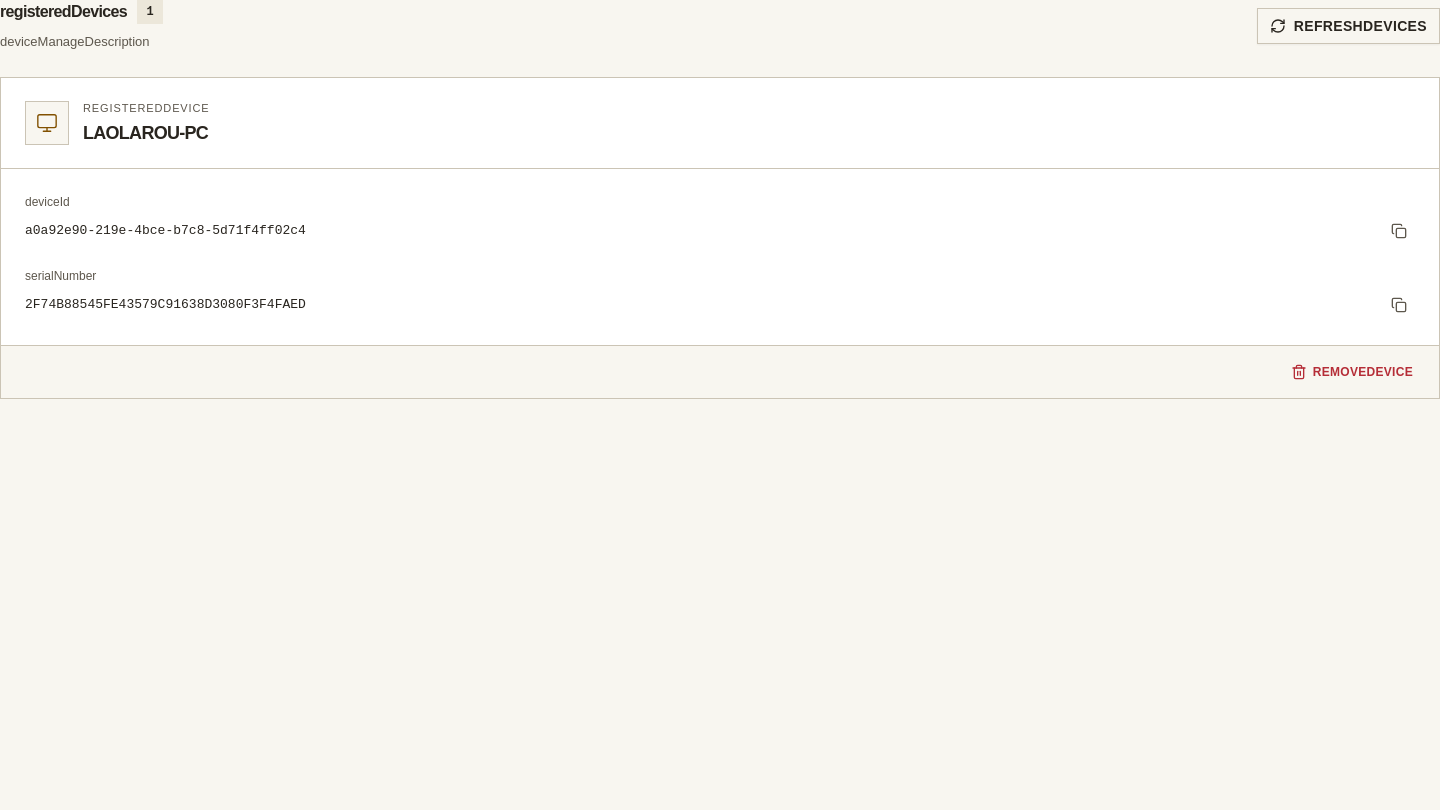
Test case: device management › requires confirmation before removing the selected device and refreshes afterward
The image size is (1440, 810).
Expected: the heading "LAOLAROU-PC" is shown, 83,121 -> 210,146
Click the button "removeDevice" at x=1352, y=372, box 1281,356 -> 1423,388
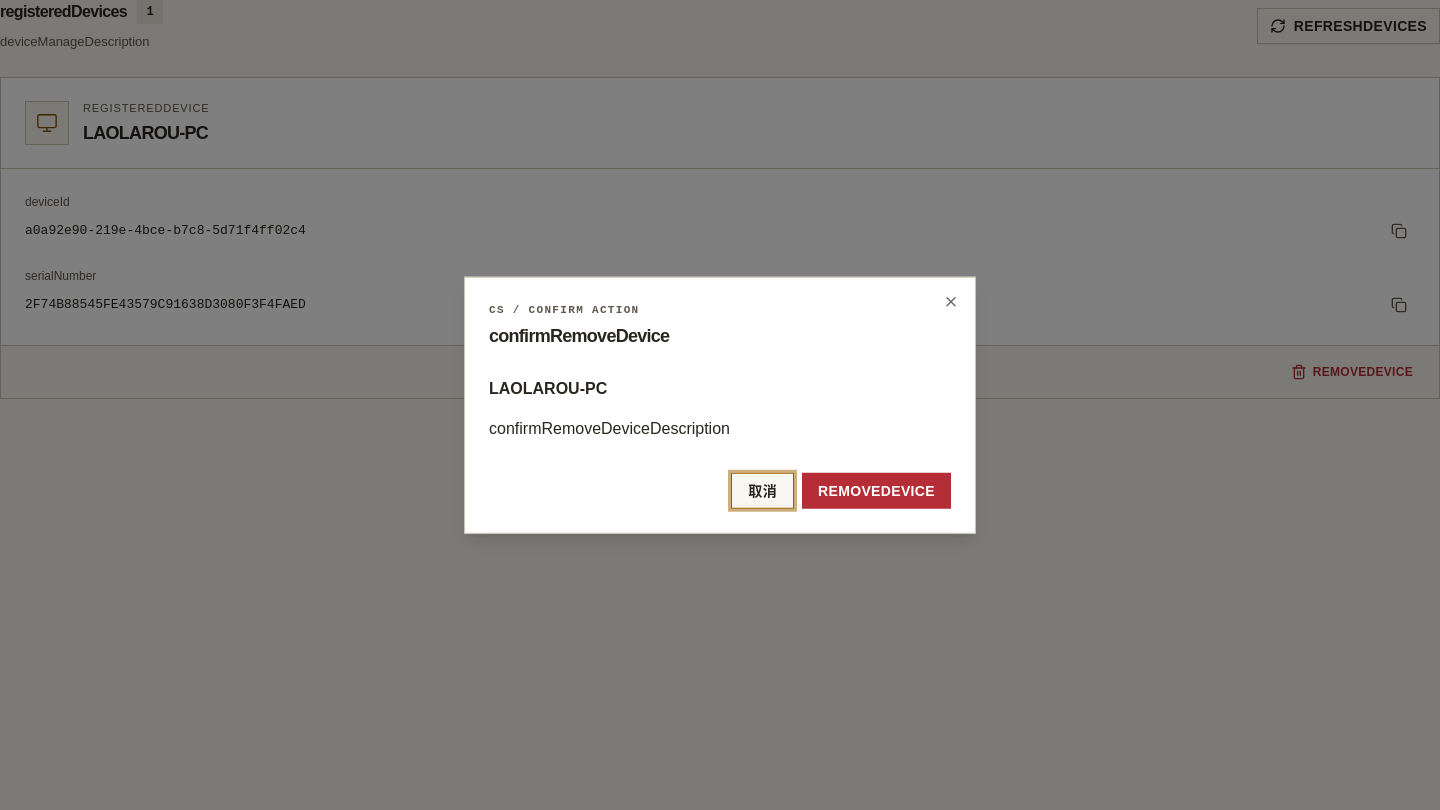
Expected: the text "LAOLAROU-PC" is shown, 489,379 -> 607,396
Click the button "removeDevice" at x=876, y=490, box 802,472 -> 951,508
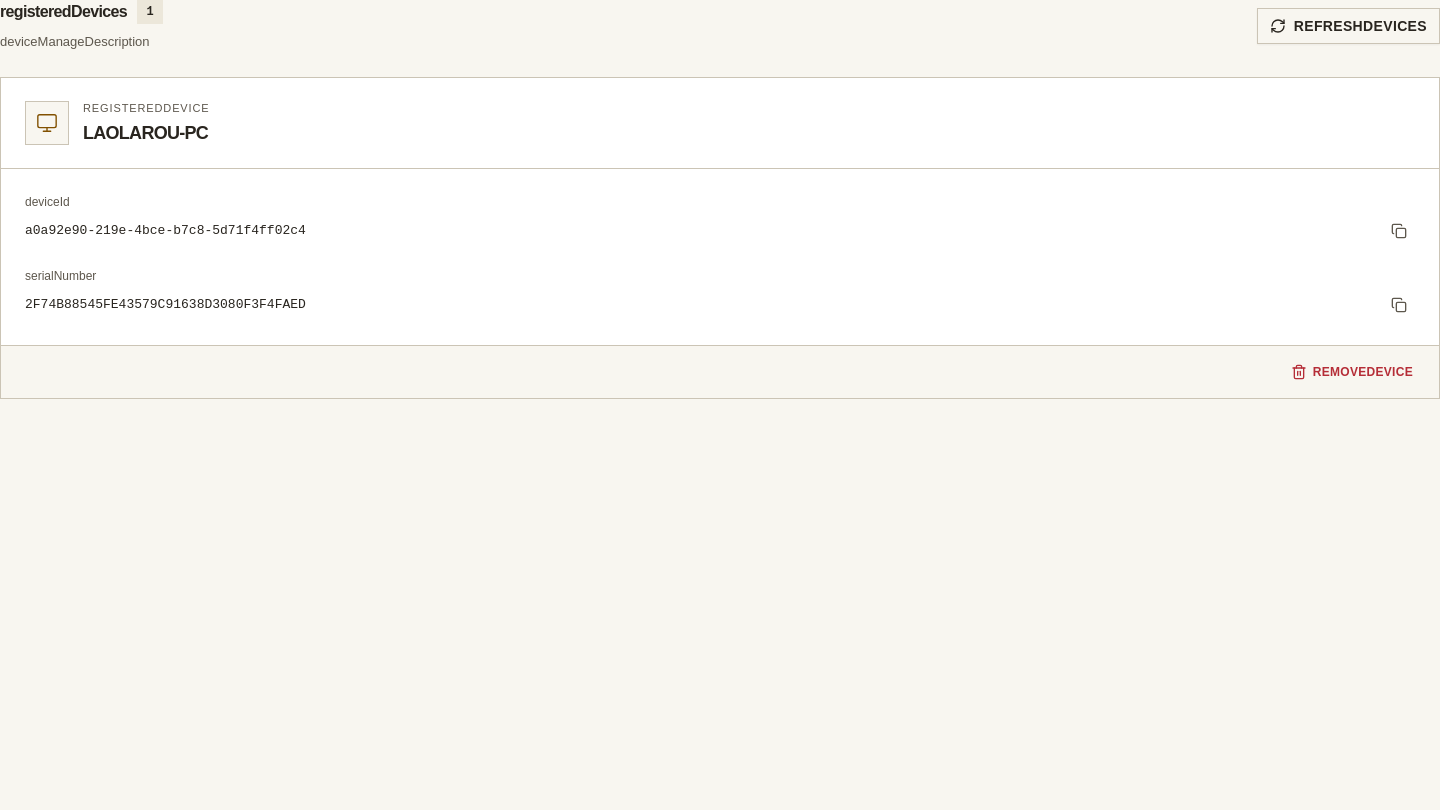
Expected: the dialog is gone
